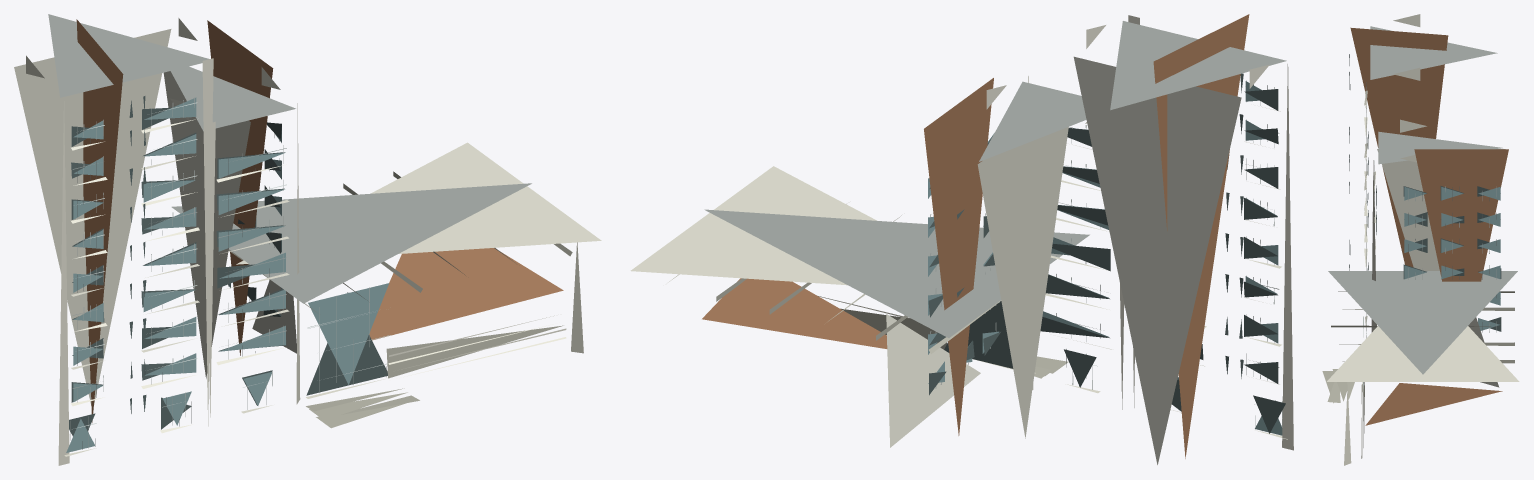
3 renders of one model, left to right at view 1: azimuth 30°, elevation 25°; view 2: azimuth 150°, elevation 25°; view 3: azimuth 270°, elevation 25°, orthographic. The views are drawn at different scales.
Visible parts, largest first — view 1: 逸夫科技楼 · Science roof membrane.002, 逸夫科技楼 · Science warm stone.002, 逸夫科技楼 · Science terracotta brick.002, 逸夫科技楼 · Science pale limestone edges.002, 逸夫科技楼 · Science pale blue glazing.002, 逸夫科技楼 · Science deep window recess.002, 逸夫科技楼 · Science banded sandstone base.002, 逸夫科技楼 · Science window aluminium.002; view 2: 逸夫科技楼 · Science warm stone.002, 逸夫科技楼 · Science roof membrane.002, 逸夫科技楼 · Science terracotta brick.002, 逸夫科技楼 · Science pale limestone edges.002, 逸夫科技楼 · Science deep window recess.002, 逸夫科技楼 · Science pale blue glazing.002, 逸夫科技楼 · Science banded sandstone base.002; view 3: 逸夫科技楼 · Science terracotta brick.002, 逸夫科技楼 · Science roof membrane.002, 逸夫科技楼 · Science pale limestone edges.002, 逸夫科技楼 · Science warm stone.002, 逸夫科技楼 · Science pale blue glazing.002, 逸夫科技楼 · Science deep window recess.002, 逸夫科技楼 · Science banded sandstone base.002, 逸夫科技楼 · Science window aluminium.002.
Part boxes in pixels (x1,y1,x2,y2): 逸夫科技楼 · Science roof membrane.002: (48,14,531,303); 逸夫科技楼 · Science warm stone.002: (14,29,296,406); 逸夫科技楼 · Science terracotta brick.002: (76,19,563,422); 逸夫科技楼 · Science pale limestone edges.002: (26,18,601,465); 逸夫科技楼 · Science pale blue glazing.002: (66,97,389,452); 逸夫科技楼 · Science deep window recess.002: (69,96,387,435); 逸夫科技楼 · Science banded sandstone base.002: (228,171,572,428); 逸夫科技楼 · Science window aluminium.002: (70,97,390,449); 逸夫科技楼 · Science warm stone.002: (886,56,1241,464); 逸夫科技楼 · Science roof membrane.002: (704,21,1286,337); 逸夫科技楼 · Science terracotta brick.002: (702,14,1249,458); 逸夫科技楼 · Science pale limestone edges.002: (630,15,1293,450); 逸夫科技楼 · Science deep window recess.002: (928,73,1285,433); 逸夫科技楼 · Science pale blue glazing.002: (928,81,1282,435); 逸夫科技楼 · Science banded sandstone base.002: (668,215,1068,378); 逸夫科技楼 · Science terracotta brick.002: (1350,27,1508,425); 逸夫科技楼 · Science roof membrane.002: (1328,26,1517,374); 逸夫科技楼 · Science pale limestone edges.002: (1327,14,1519,465); 逸夫科技楼 · Science warm stone.002: (1377,149,1505,387); 逸夫科技楼 · Science pale blue glazing.002: (1404,186,1500,330); 逸夫科技楼 · Science deep window recess.002: (1349,54,1501,331); 逸夫科技楼 · Science banded sandstone base.002: (1322,291,1514,447); 逸夫科技楼 · Science window aluminium.002: (1363,82,1496,391).
Bounding box in the file's own units: 46.5 × 33.4 × 21.45.
